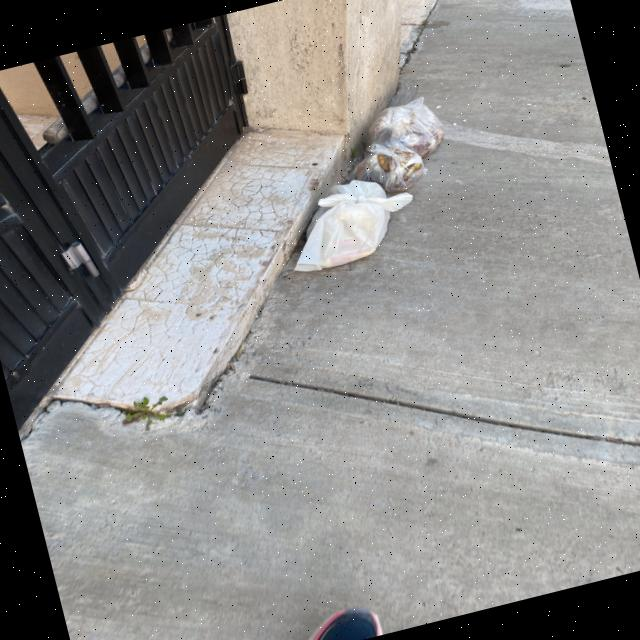Organic Waste: (274, 168, 412, 278), (356, 90, 452, 168), (344, 135, 431, 203)
